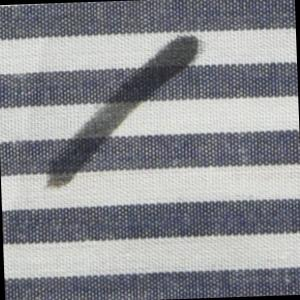Stain: (38, 30, 211, 195)
